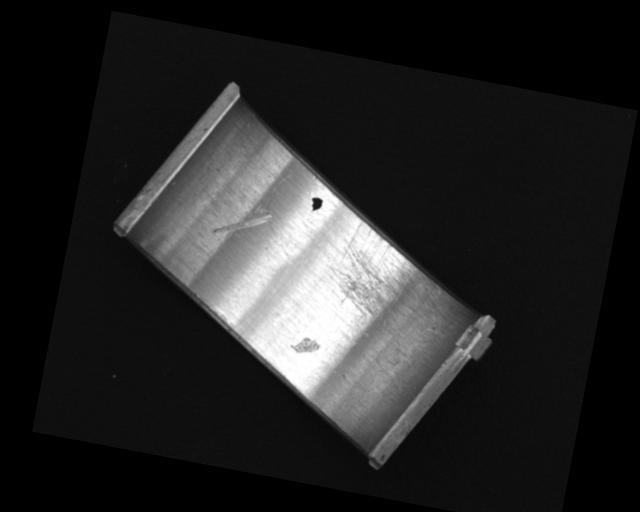blot: (308, 195, 324, 213)
bruise: (289, 333, 322, 356)
nick: (212, 204, 273, 243), (261, 169, 293, 242)
scratch: (317, 214, 444, 330)
